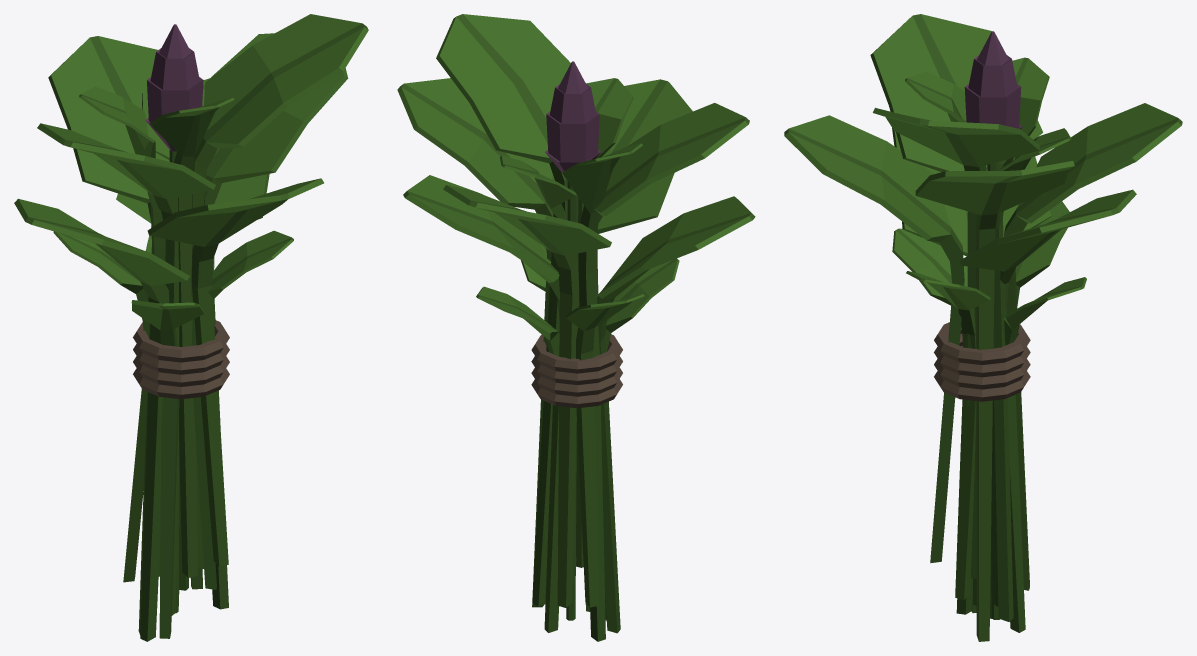
The model's file is HealingGrass.fbx.
The picture shows the model from 3 angles, left to right: view 1: azimuth 30°, elevation 25°; view 2: azimuth 150°, elevation 25°; view 3: azimuth 270°, elevation 25°; orthographic projection. The views are drawn at different scales.
Visible parts, largest first — view 1: Herbs; view 2: Herbs; view 3: Herbs.
Boxes of the visible parts, x1=… form: Herbs: x1=14, y1=14, x2=368, y2=641; Herbs: x1=397, y1=14, x2=755, y2=641; Herbs: x1=784, y1=14, x2=1182, y2=641.
Size of the model in its own units: 4.38 by 7.35 by 4.42.
